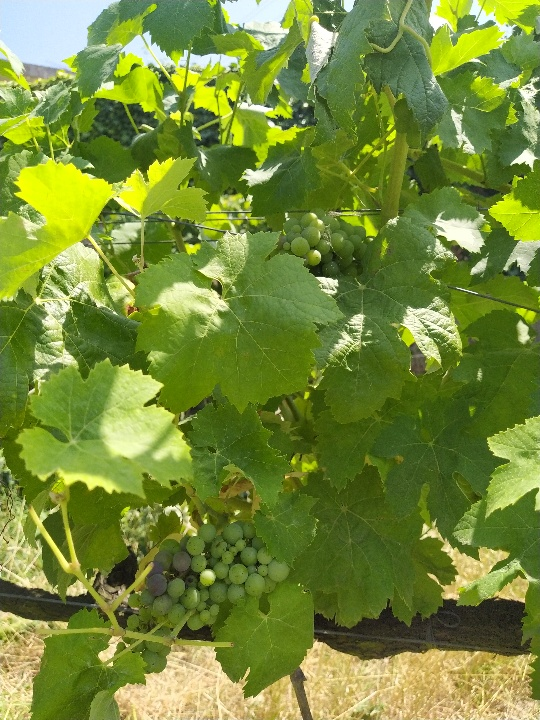grape: (118, 522, 293, 674)
